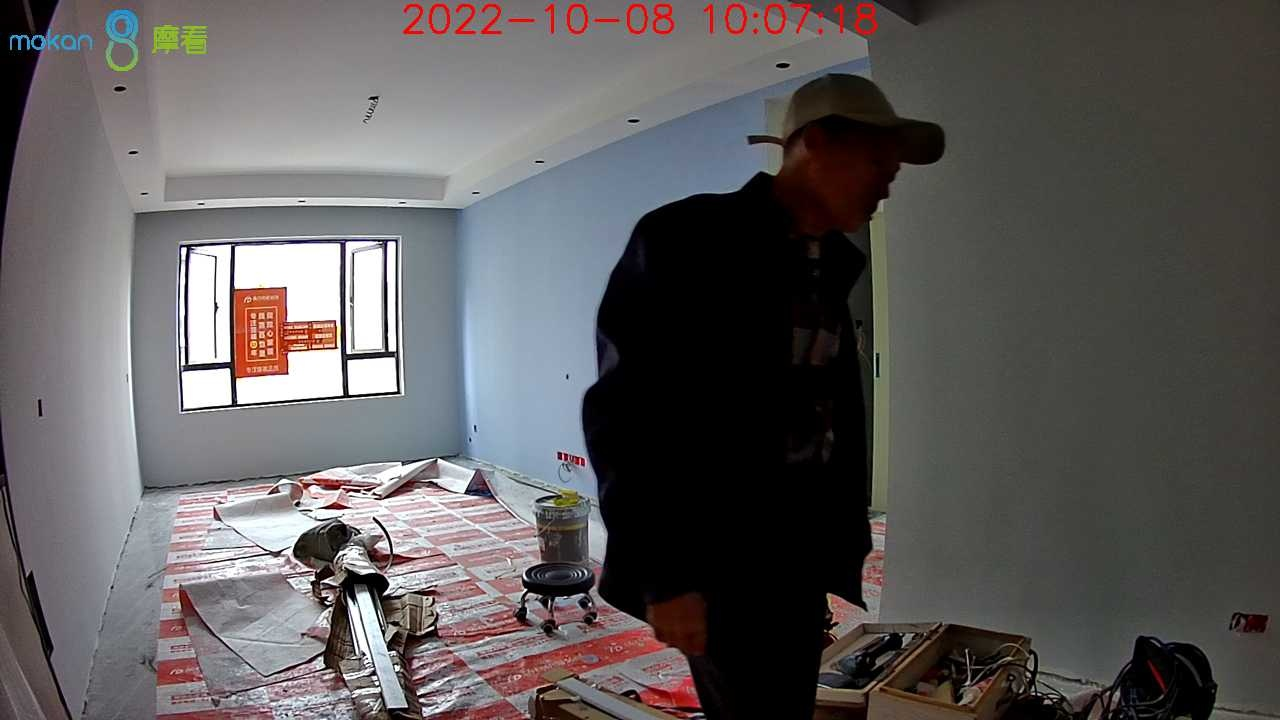people: (580, 73, 944, 720)
window: (180, 236, 406, 414)
